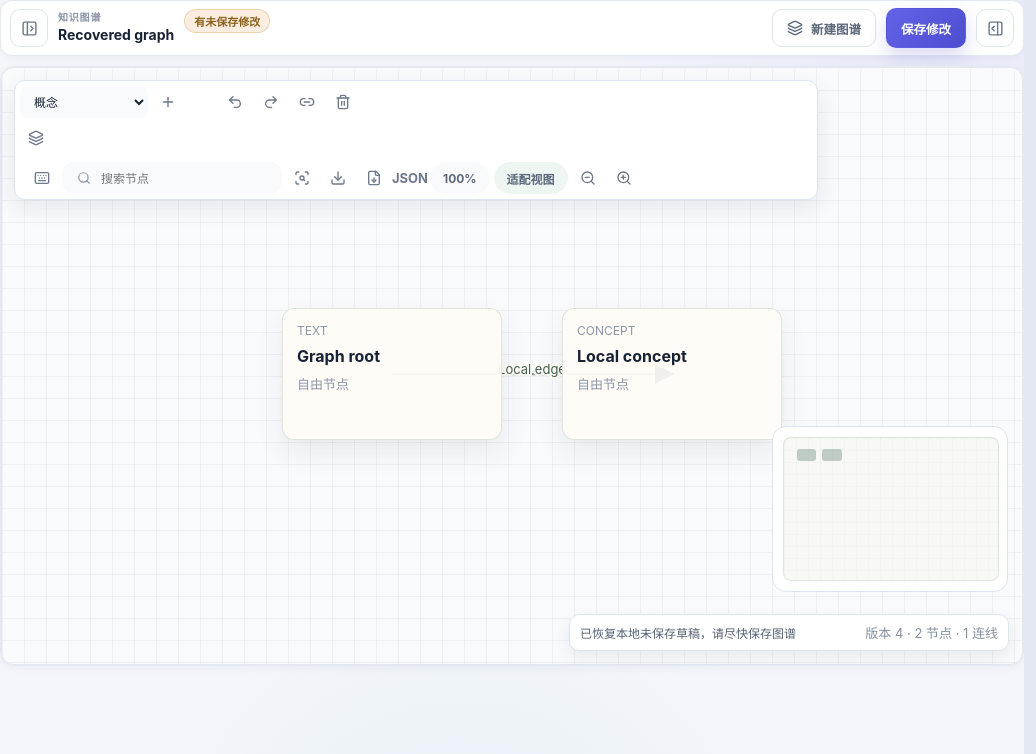
Test case: GraphWorkspacePage conflict dependency guard › offers linked resolution actions that can clear dependency blockers
What coordinates should you click on to do the following:
click the button "保存修改"
I would click on:
 (926, 28)
Its box is [886, 8, 966, 48].
(page scrolled)
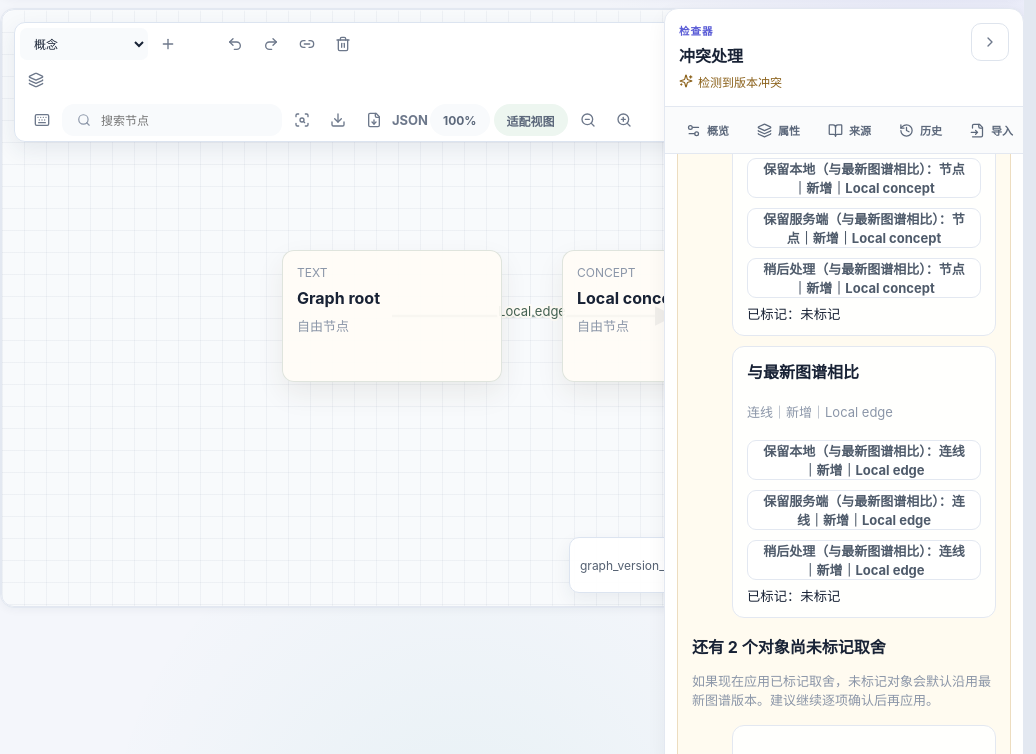
Expected: the list item "连线｜新增｜Local edge" is shown, [747, 404, 893, 420]
What coordinates should you click on to do the following:
click the button "保留本地（与最新图谱相比）：连线｜新增｜Local edge"
I would click on:
 (864, 460)
Its box is [747, 440, 981, 480].
(page scrolled)
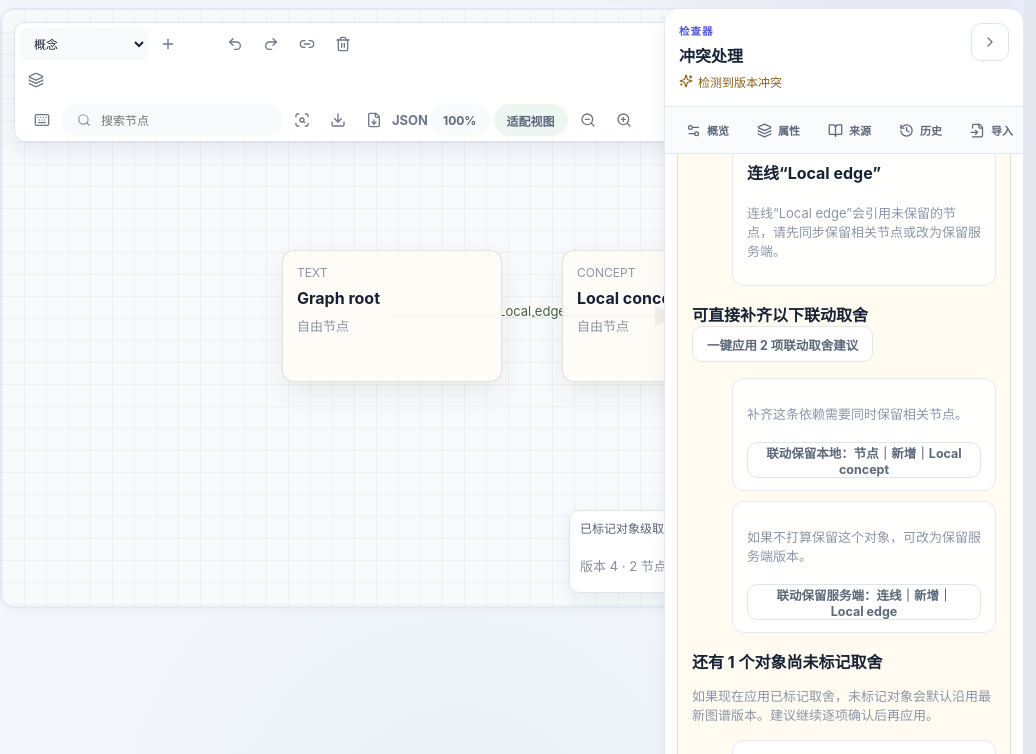
What coordinates should you click on to do the following:
click the button "联动保留本地：节点｜新增｜Local concept"
I would click on:
 (864, 460)
Its box is [747, 442, 981, 478].
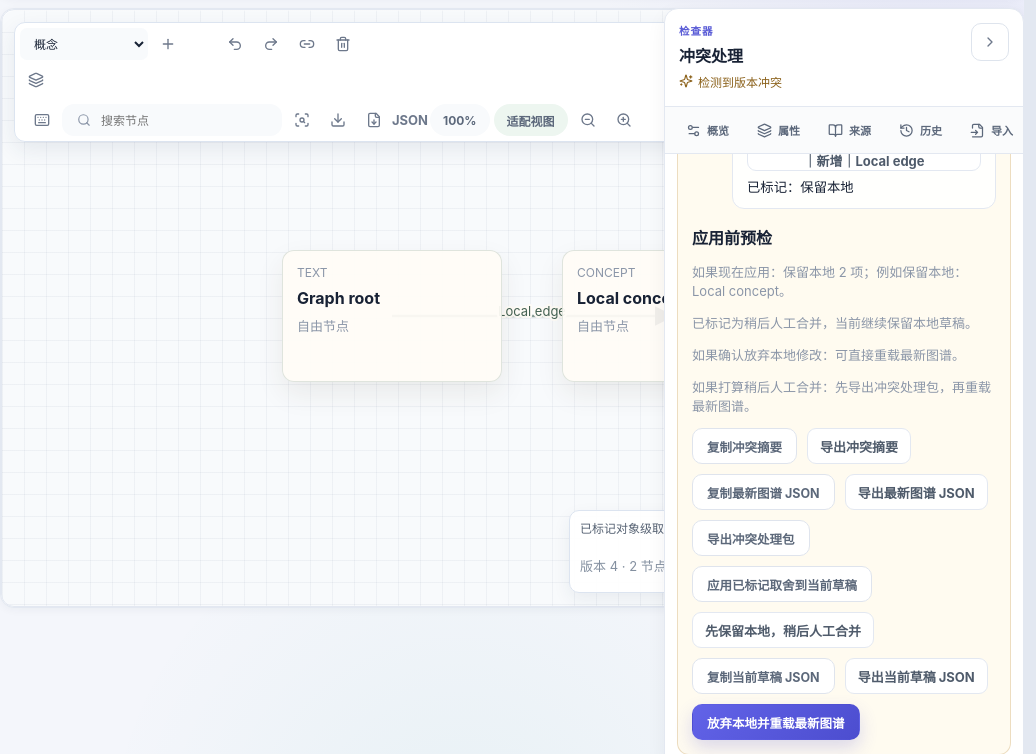
Expected: the field labelled "取舍依赖校验问题" is gone
Expected: the button "应用已标记取舍到当前草稿" is enabled, [692, 566, 872, 602]
